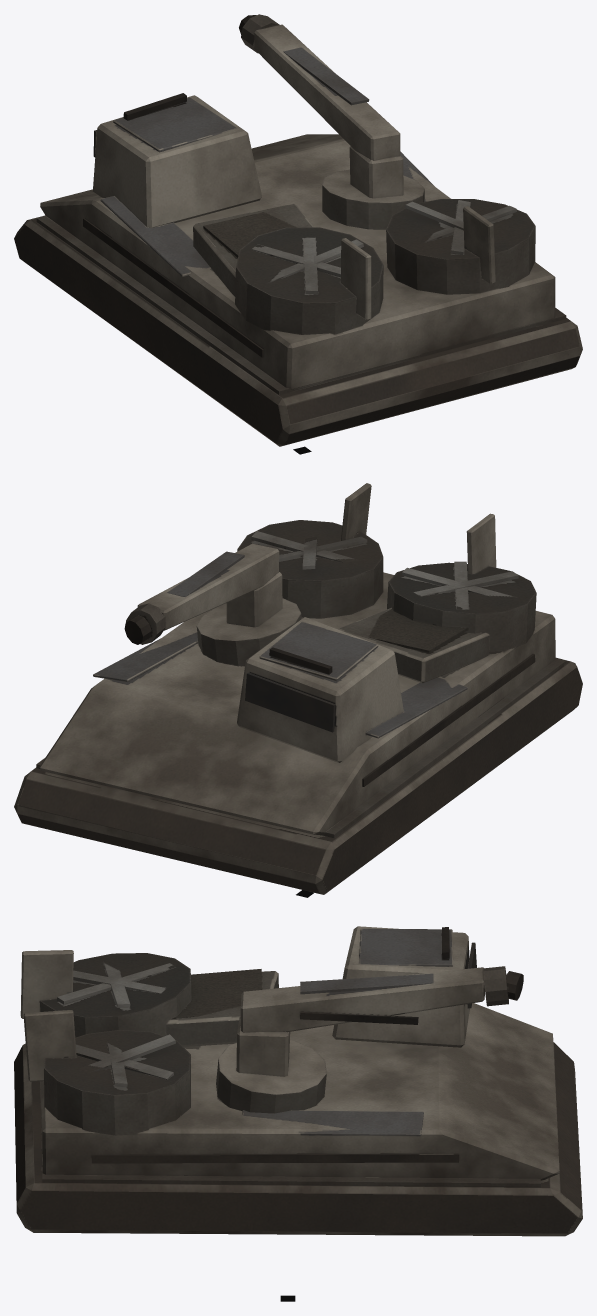
File: ord_skimwright_wreck.fbx
The picture shows the model from 3 angles, top to bottom: view 1: azimuth 30°, elevation 25°; view 2: azimuth 150°, elevation 25°; view 3: azimuth 270°, elevation 25°; orthographic projection. The views are drawn at different scales.
Parts seen in each view (by area): view 1: base_bar, nano_bar, fan1_bar, fan2_bar; view 2: base_bar, nano_bar, fan1_bar, fan2_bar; view 3: base_bar, nano_bar, fan2_bar, fan1_bar.
Part boxes in pixels (box(x1,y1,x2,y2)): base_bar: box(14, 93, 582, 446); nano_bar: box(239, 14, 424, 229); fan1_bar: box(251, 237, 363, 294); fan2_bar: box(405, 200, 516, 254); base_bar: box(14, 483, 582, 894); nano_bar: box(124, 543, 301, 665); fan1_bar: box(402, 561, 518, 610); fan2_bar: box(251, 531, 367, 569); base_bar: box(14, 926, 582, 1236); nano_bar: box(216, 966, 523, 1113); fan2_bar: box(75, 1034, 175, 1086); fan1_bar: box(57, 961, 176, 1007).
Bounding box in the file's own units: 507 × 545 × 780.
Materials: 2 (2 with a texture image).
